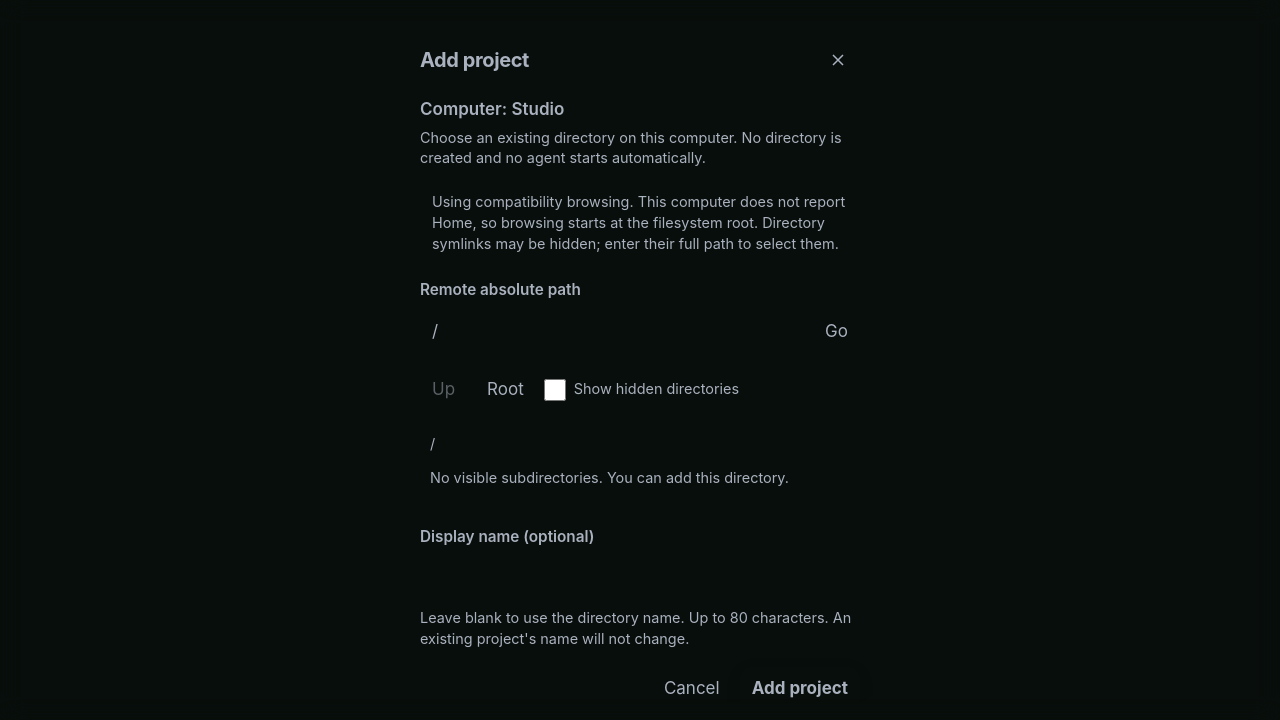
Scenario: Add project dialog › never writes an ambiguous legacy canonical path into a replacement-character sibling
Check: the text "Using compatibility browsing. This computer does not report Home, so browsing starts at the filesystem root. Directory s" is shown, box [432, 193, 845, 252]
Replace the text in the field labelled "Remote absolute path" with "/alias" at [613, 332], box [420, 308, 805, 356]
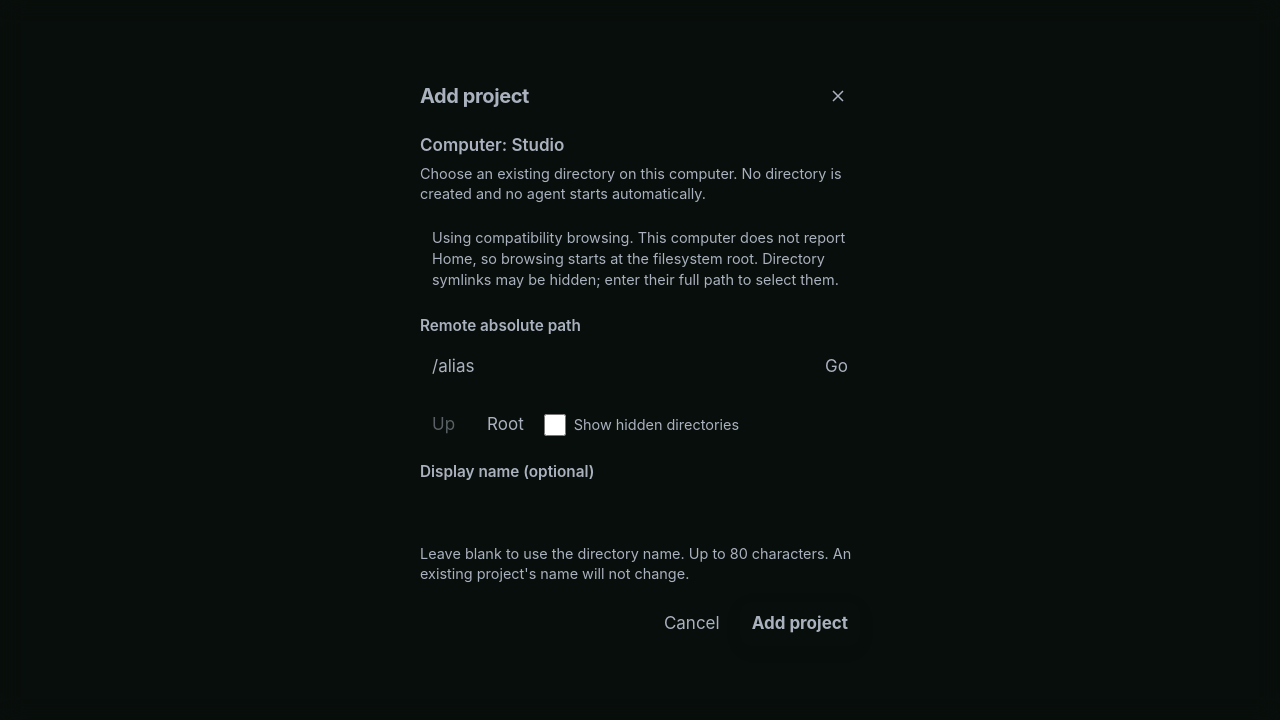
Click the button "Add project" at [800, 624], box [740, 602, 860, 646]
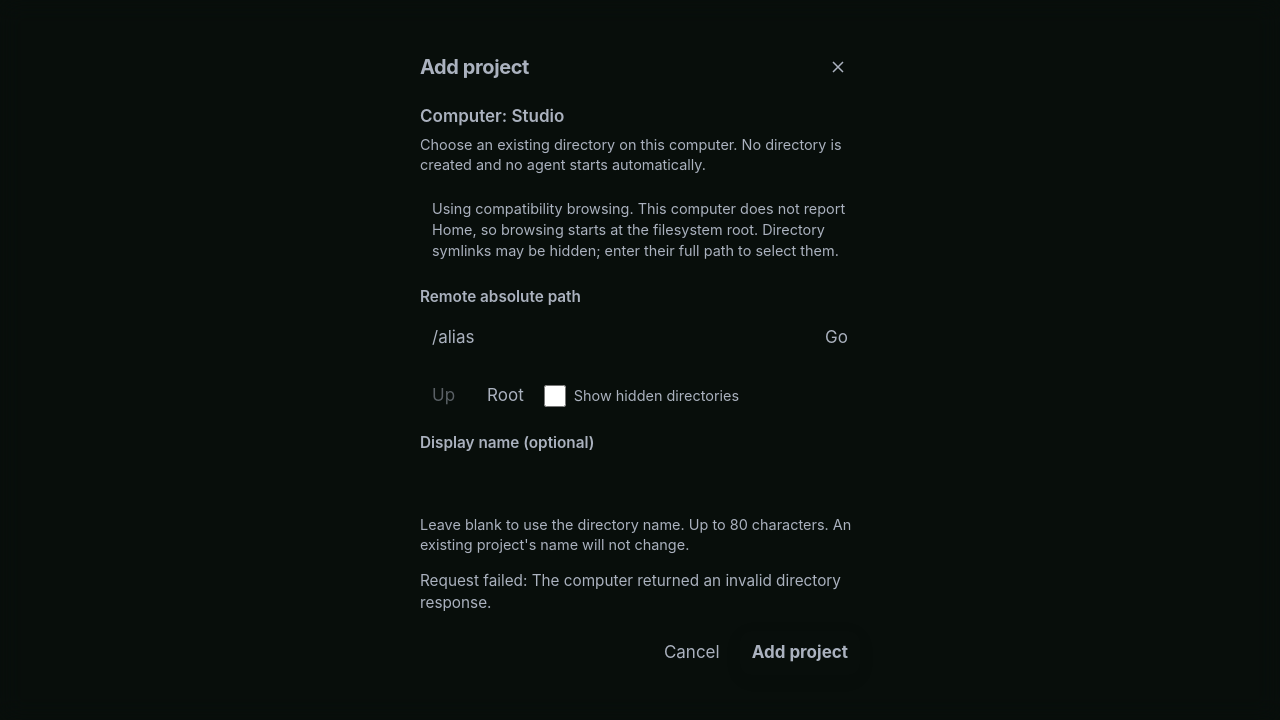
Check: the message "Request failed: The computer returned an invalid directory response." is shown, box [420, 570, 860, 613]
